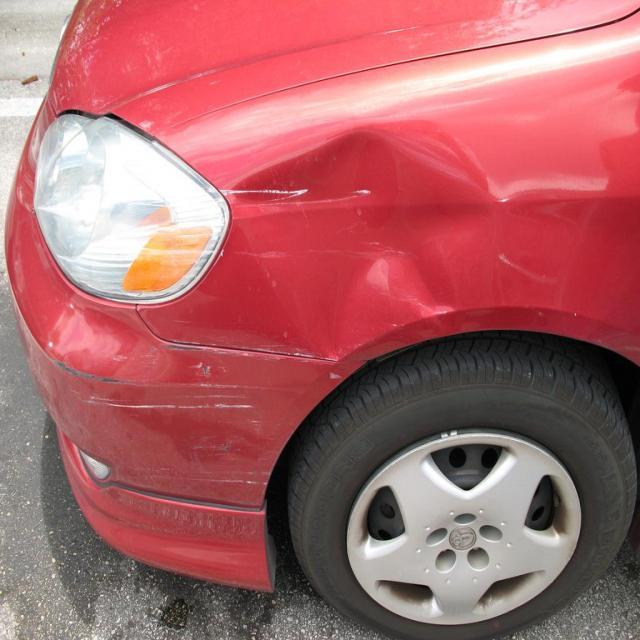dent: (213, 102, 482, 390)
